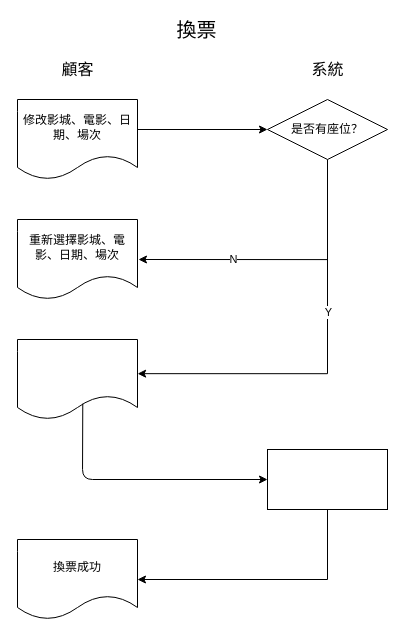
The diagram is 405 pixels wide and 637 high, and some of its shapes have lost their labels. Here are the shapes that lost their labels. From the top down, the box of each, then its label:
(16, 338, 138, 420): 選擇座位
(266, 448, 388, 510): 換票處理
